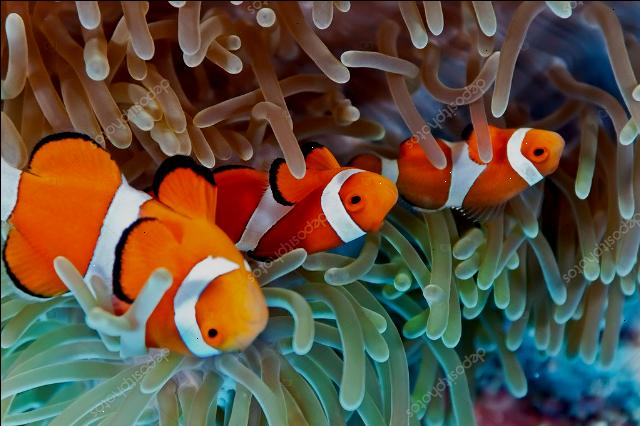Mulut: (538, 104, 574, 170), (356, 166, 404, 213)
Sirip Anal: (104, 208, 180, 308), (255, 155, 332, 207)
Sirip Perut: (146, 147, 224, 227)
Sirip Punggung: (411, 190, 512, 234)
